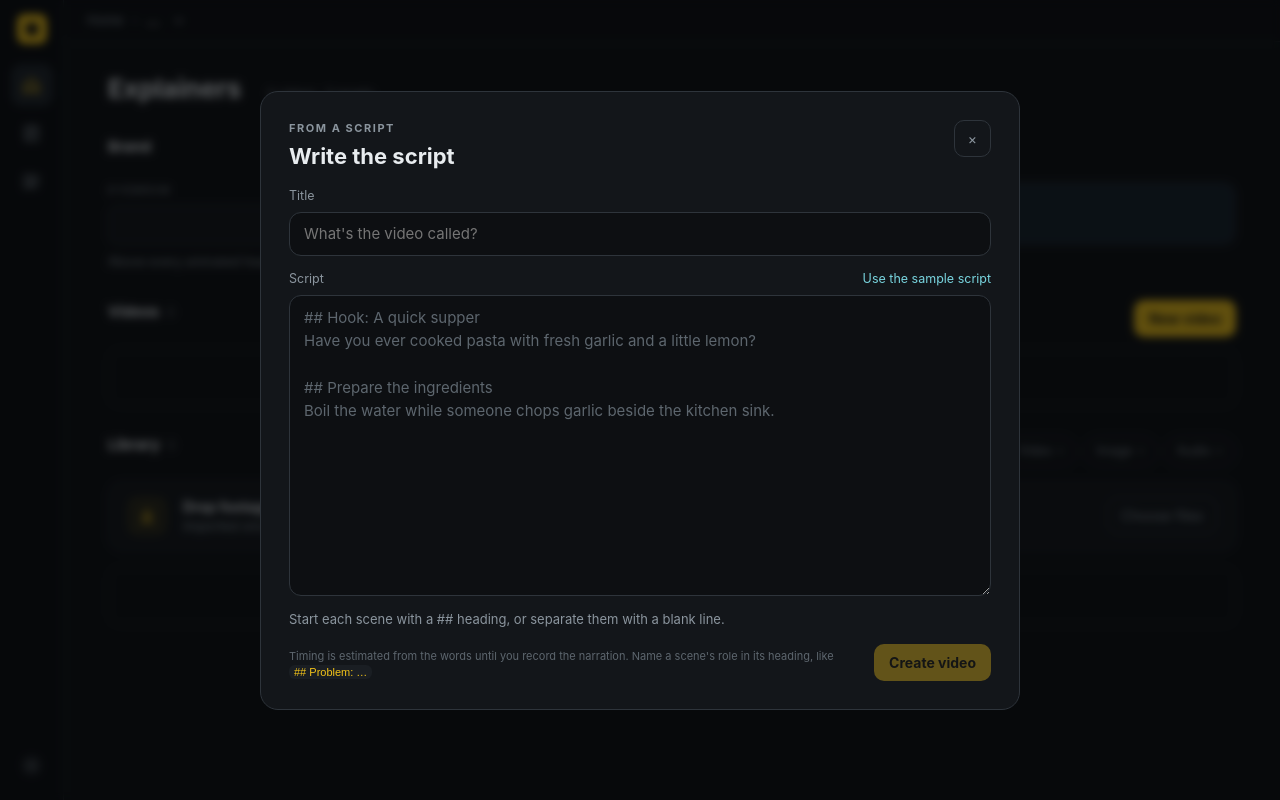
it: the write sheet › offers clearly-marked sample text and shows the server's refusal
Click the button "Use the sample script". click: click(927, 280)
box: [863,270,991,289]
(page scrolled)
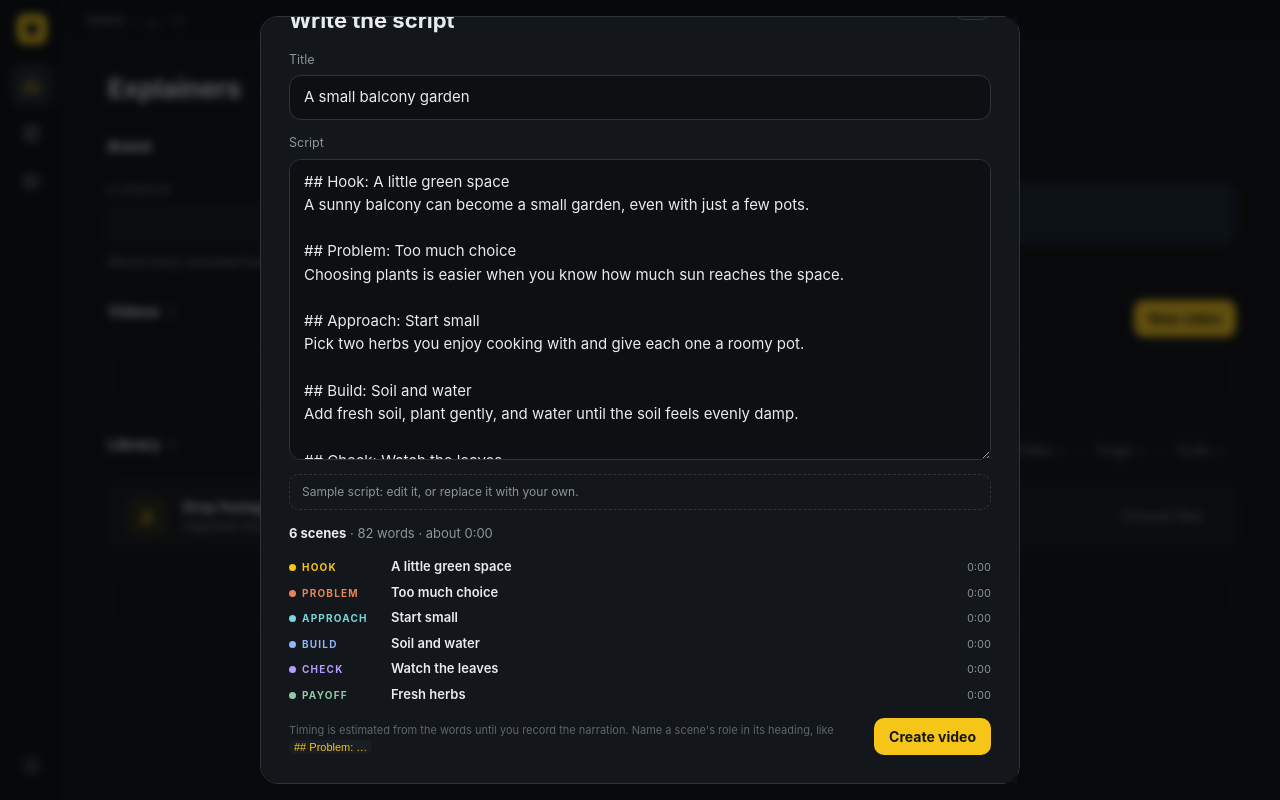
Check: the field labelled "Title" holds "A small balcony garden", box [289,75,991,120]
Check: the text "Sample script: edit it, or replace it with your own." is shown, box [289,474,991,510]
Check: the text "6 scenes" is shown, box [289,524,346,540]
Click the button "Create video". click: click(933, 736)
box: [874,718,991,755]
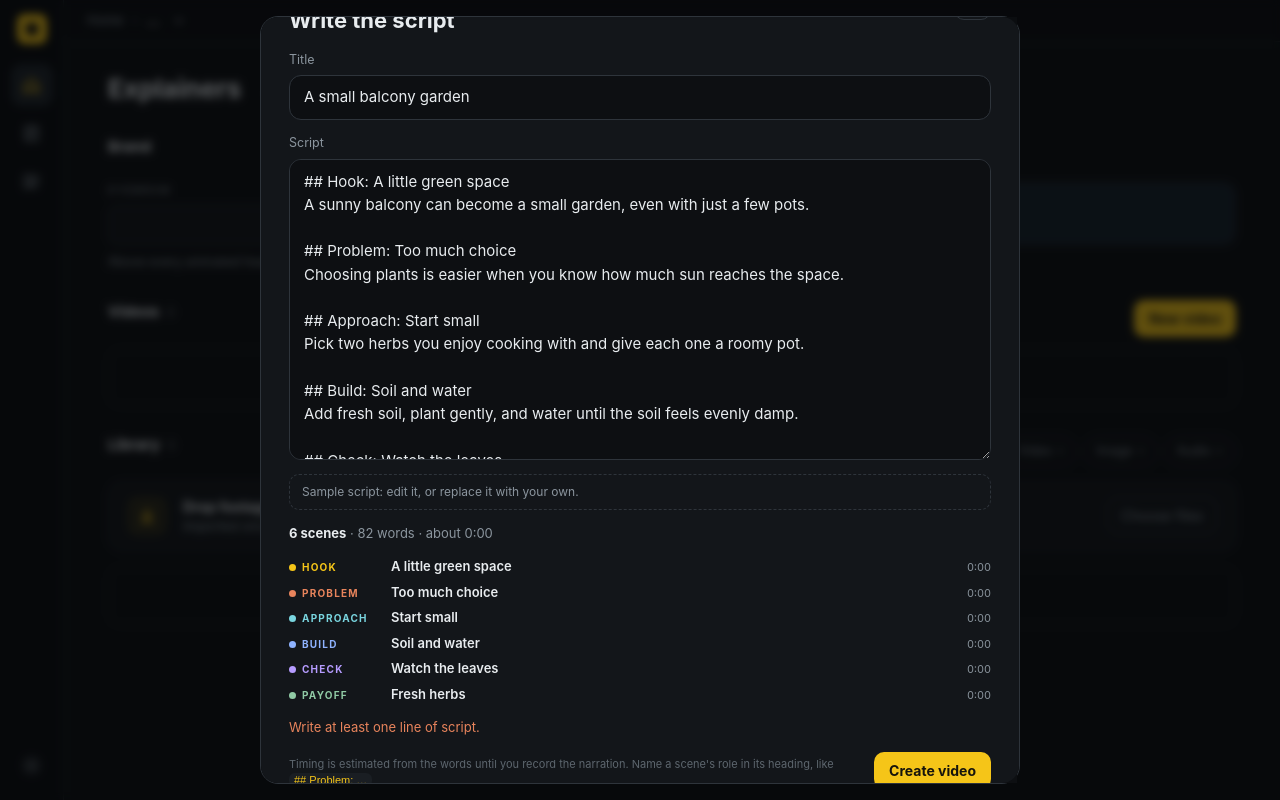
Check: the message reads "Write at least one line of script.", box [289,719,480,735]
